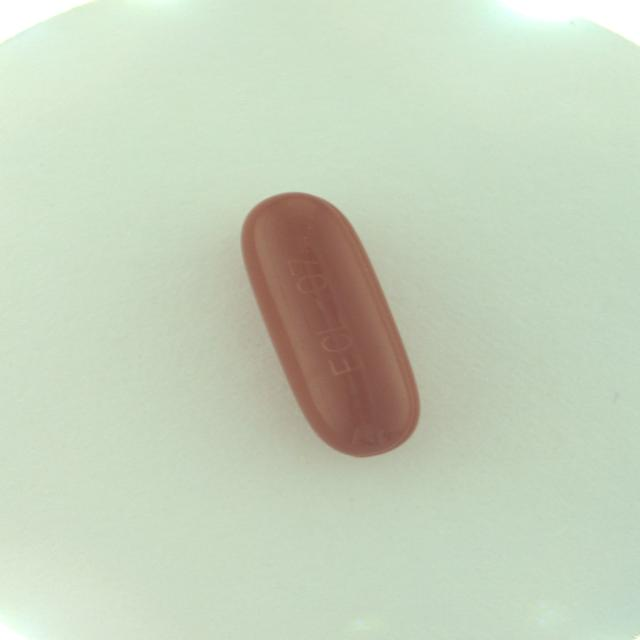Oval: (234, 184, 424, 466)
